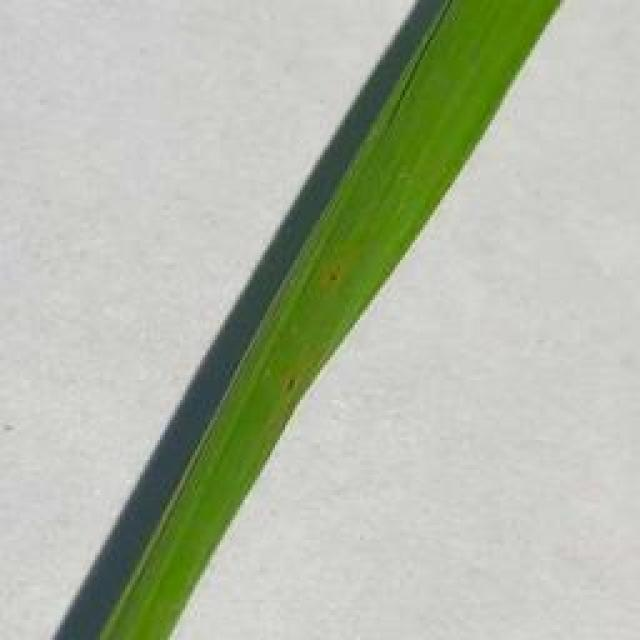Brown_Spot: (316, 261, 353, 288), (284, 372, 306, 399)
